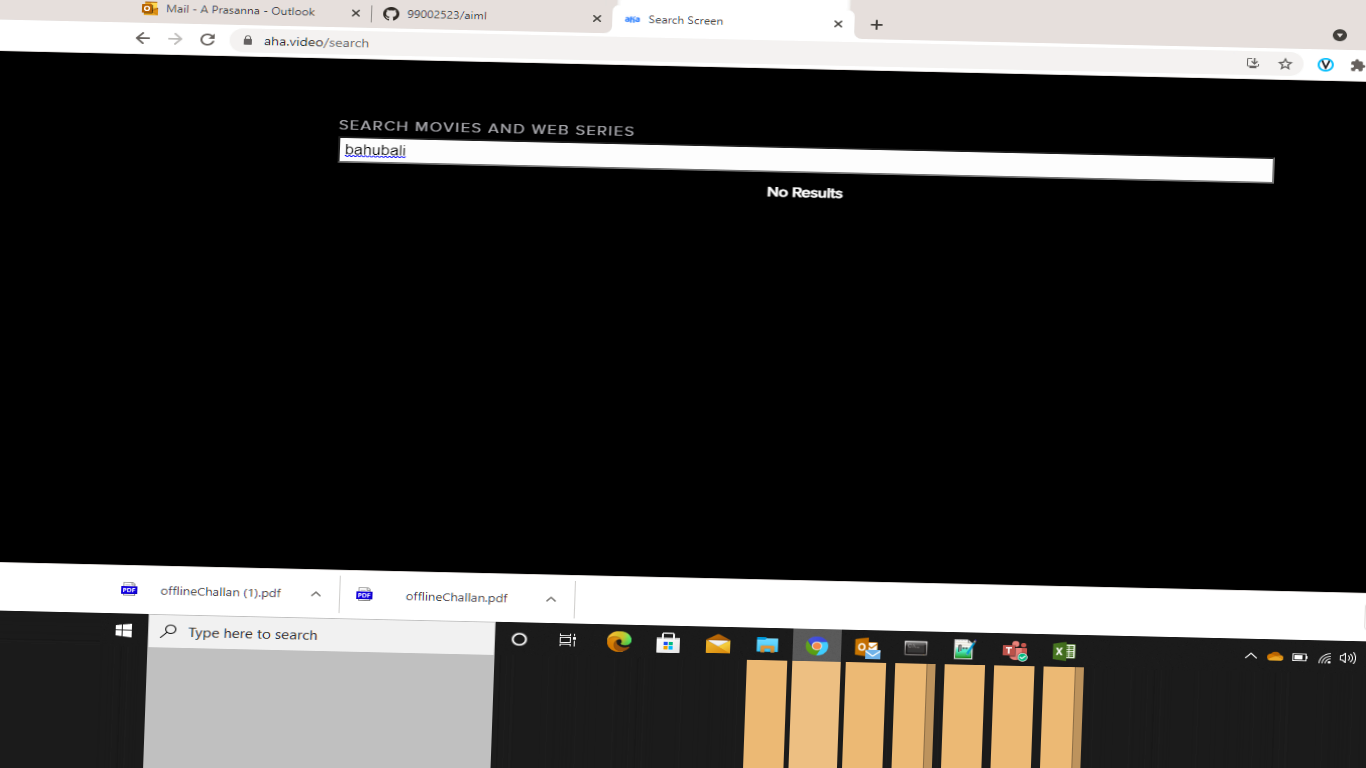noresultsfound: (748, 177, 870, 211)
searchtextbox: (323, 103, 1288, 179)
